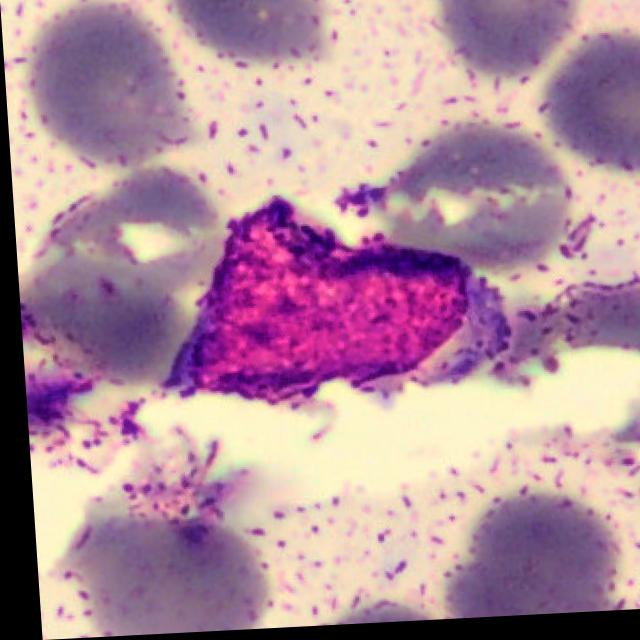Restos celulares: (159, 202, 502, 411)
